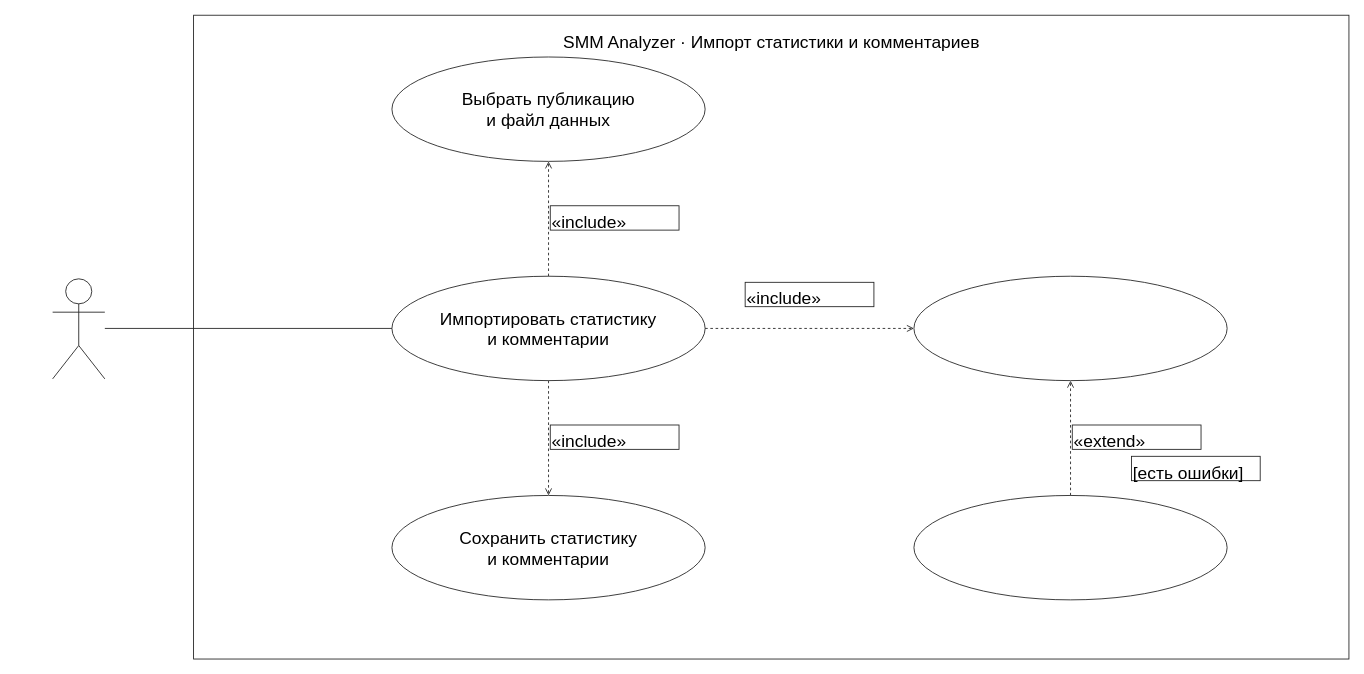
The diagram is 1364 pixels wide and 674 high, and some of its shapes have lost their labels. Here are the shapes that lost their labels. From the top down, the box of each, then its label:
(52, 278, 105, 379): SMM-менеджер
(913, 275, 1227, 381): Проверить импортируемые данные
(913, 495, 1227, 600): Показать ошибки импорта
